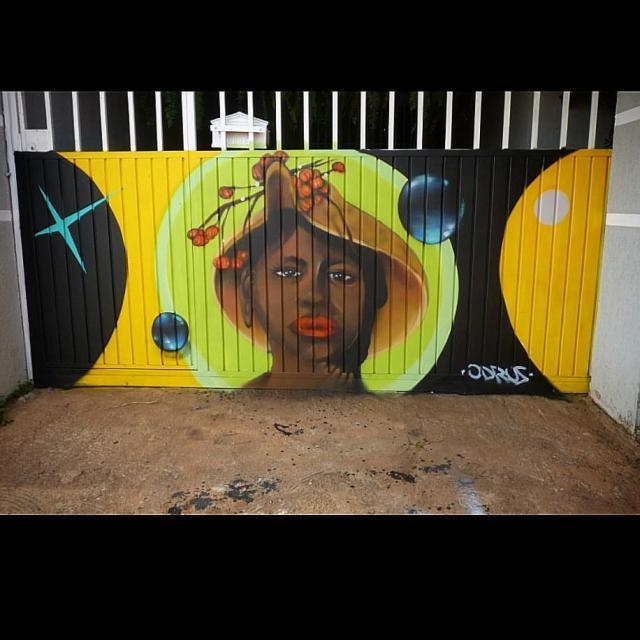-: (186, 149, 447, 387), (460, 357, 540, 392)
